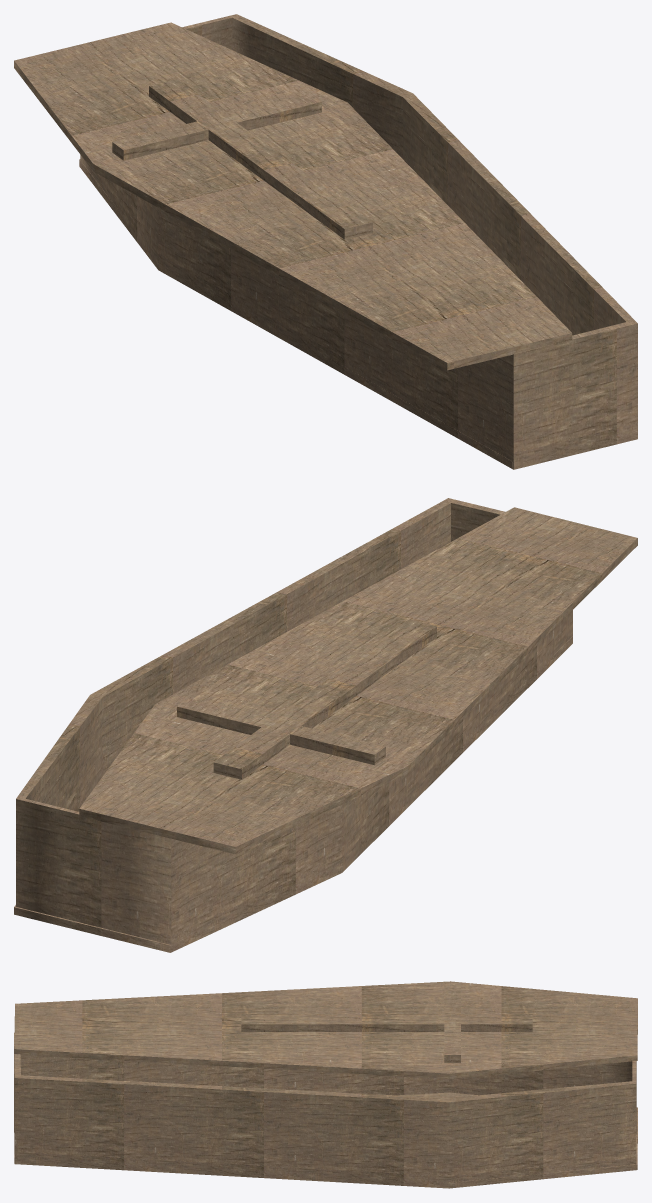
File: coffin box.fbx
The picture shows the model from 3 angles, top to bottom: view 1: azimuth 30°, elevation 25°; view 2: azimuth 150°, elevation 25°; view 3: azimuth 270°, elevation 25°; orthographic projection. The views are drawn at different scales.
Parts seen in each view (by area): view 1: Cube.1; view 2: Cube.1; view 3: Cube.1.
Boxes of the visible parts, x1=… form: Cube.1: x1=14, y1=14, x2=637, y2=469; Cube.1: x1=14, y1=498, x2=637, y2=952; Cube.1: x1=14, y1=981, x2=637, y2=1188.
Bounding box in the file's own units: 302 × 120 × 687.
Materials: 1 (1 with a texture image).
